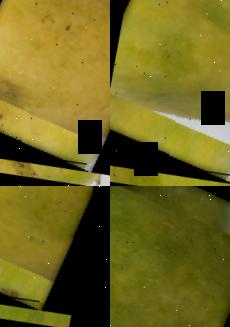PartiallyRipe: (110, 0, 230, 186), (0, 186, 110, 317)
Ripe: (0, 0, 110, 178)
Unripe: (110, 186, 230, 327)
